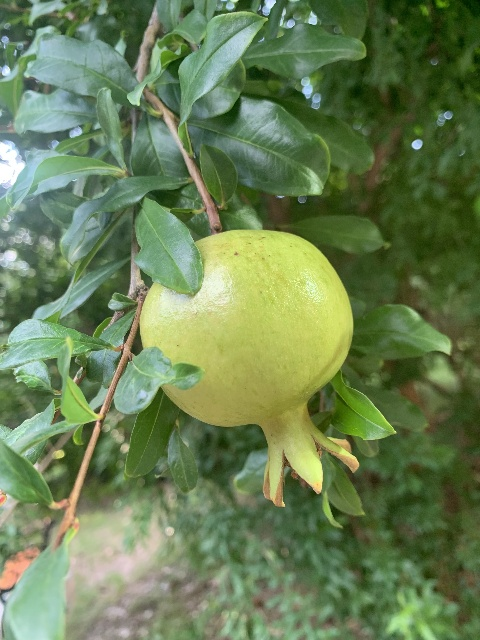mid-growth: (140, 228, 360, 508)
